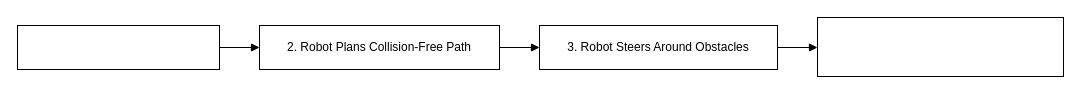
This 1081x94 diagram has some shape labels left out. The shapes that lost their labels are listed below. From the top down, each one's box as (x1, y1, x2, y2) in pixels, then its label:
(16, 24, 220, 70): 1. Click Destination on Map
(816, 16, 1064, 76): 4. Arrives at Goal with Target Heading
